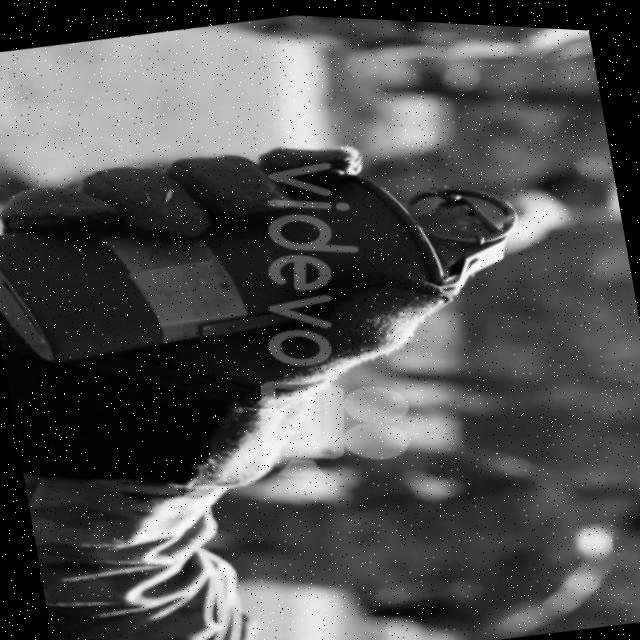grenade: (0, 57, 563, 472)
